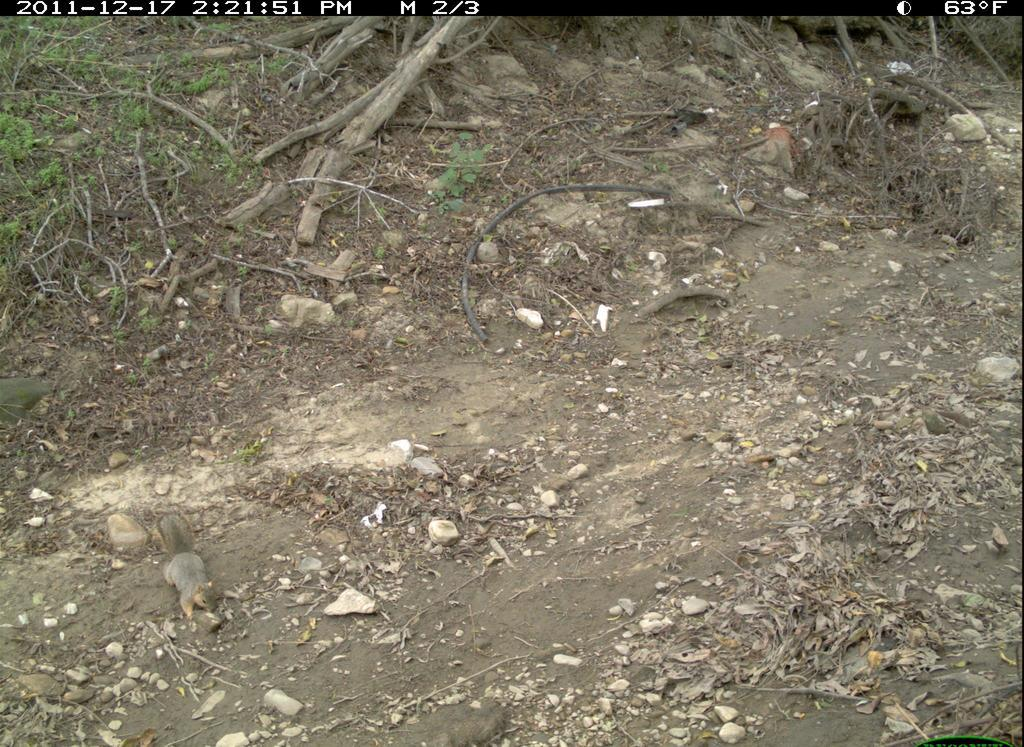squirrel: (149, 497, 232, 630)
